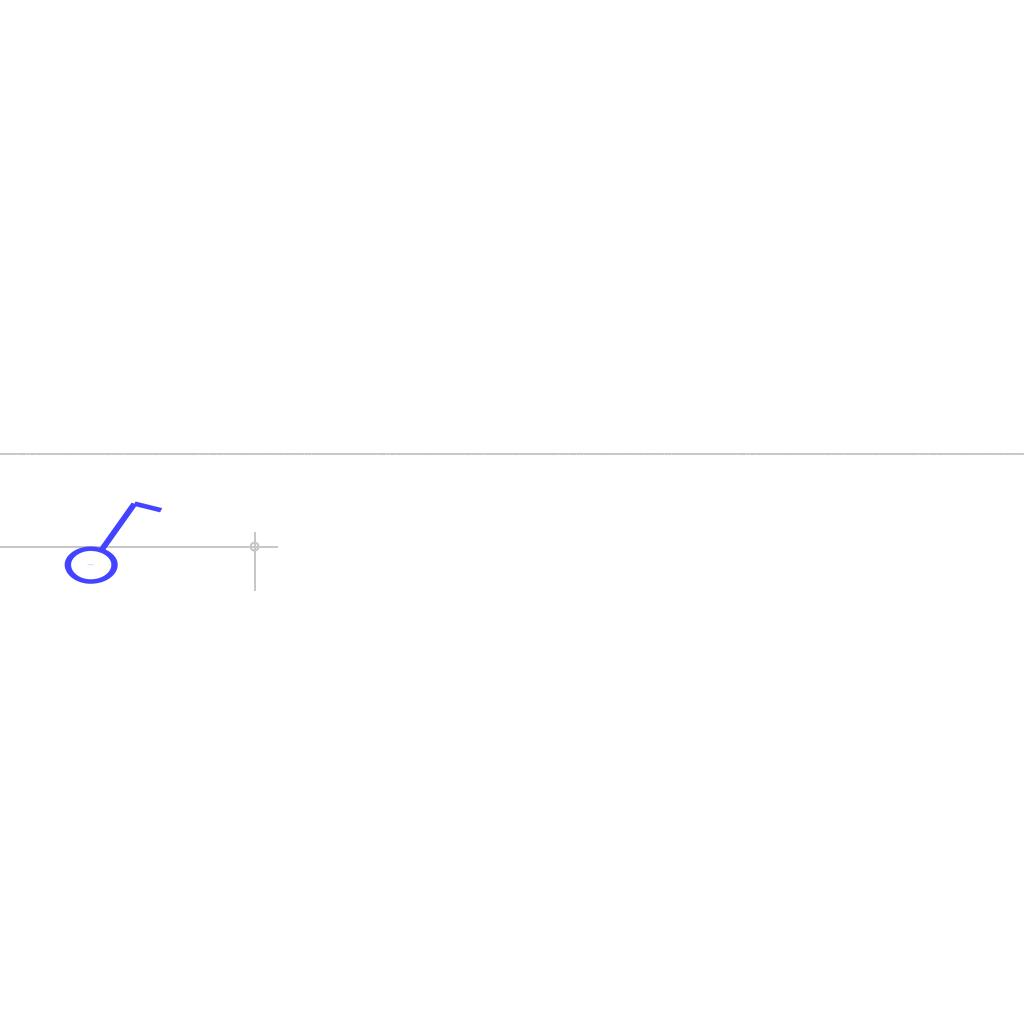Ausschalter: (53, 491, 165, 587)
